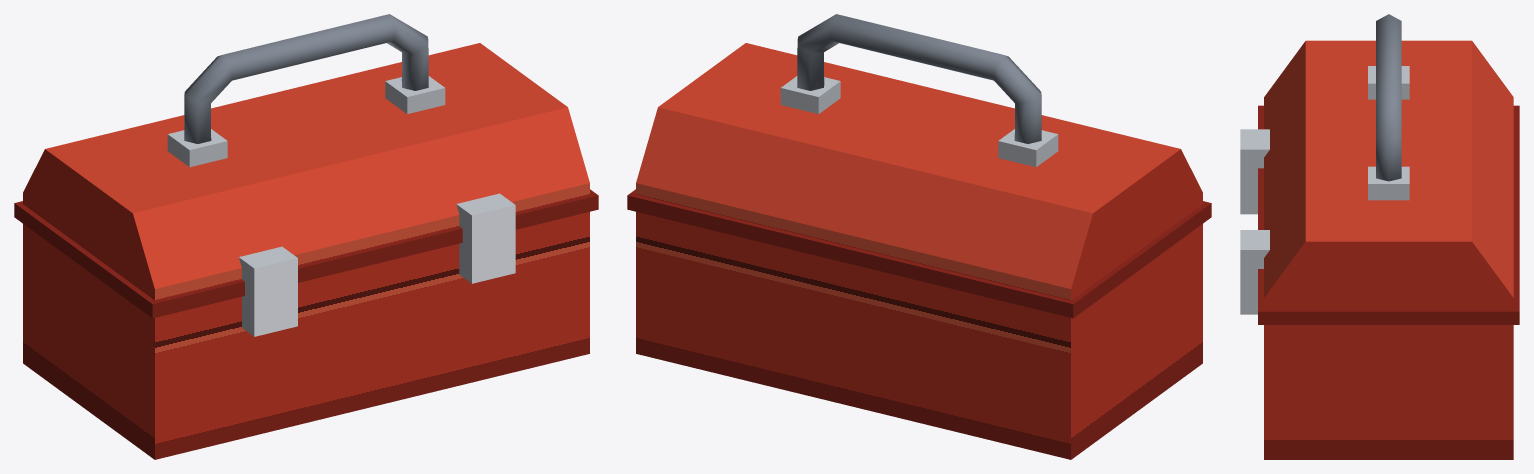
Rendered from around-toolbox.glb.
3 views of the same model, side by side, from view 1: azimuth 30°, elevation 25°; view 2: azimuth 150°, elevation 25°; view 3: azimuth 270°, elevation 25° (orthographic). The views are drawn at different scales.
Parts seen in each view (by area): view 1: around.toolbox; view 2: around.toolbox; view 3: around.toolbox.
Boxes of the visible parts, left/top/right/bottom form: around.toolbox: left=14, top=14, right=598, bottom=459; around.toolbox: left=627, top=14, right=1211, bottom=459; around.toolbox: left=1240, top=14, right=1519, bottom=459.
Size of the model in its own units: 1.52 by 1.05 by 0.8701.
Materials: 7 (2 with a texture image).
